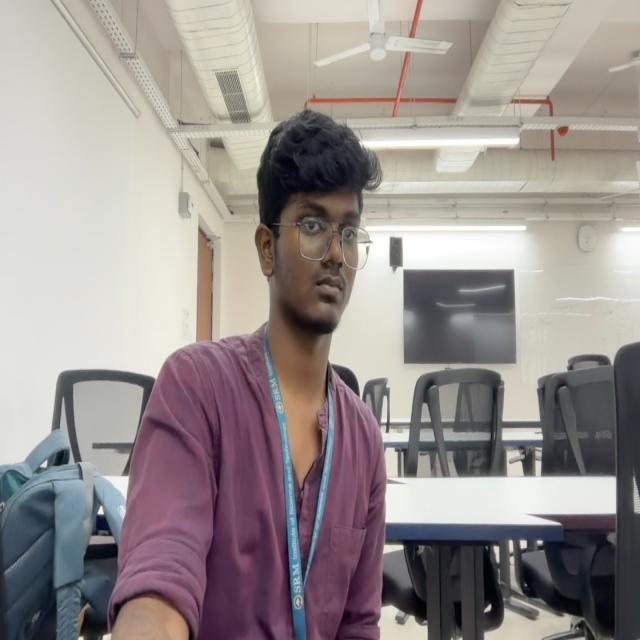ravindra: (255, 110, 376, 337)
